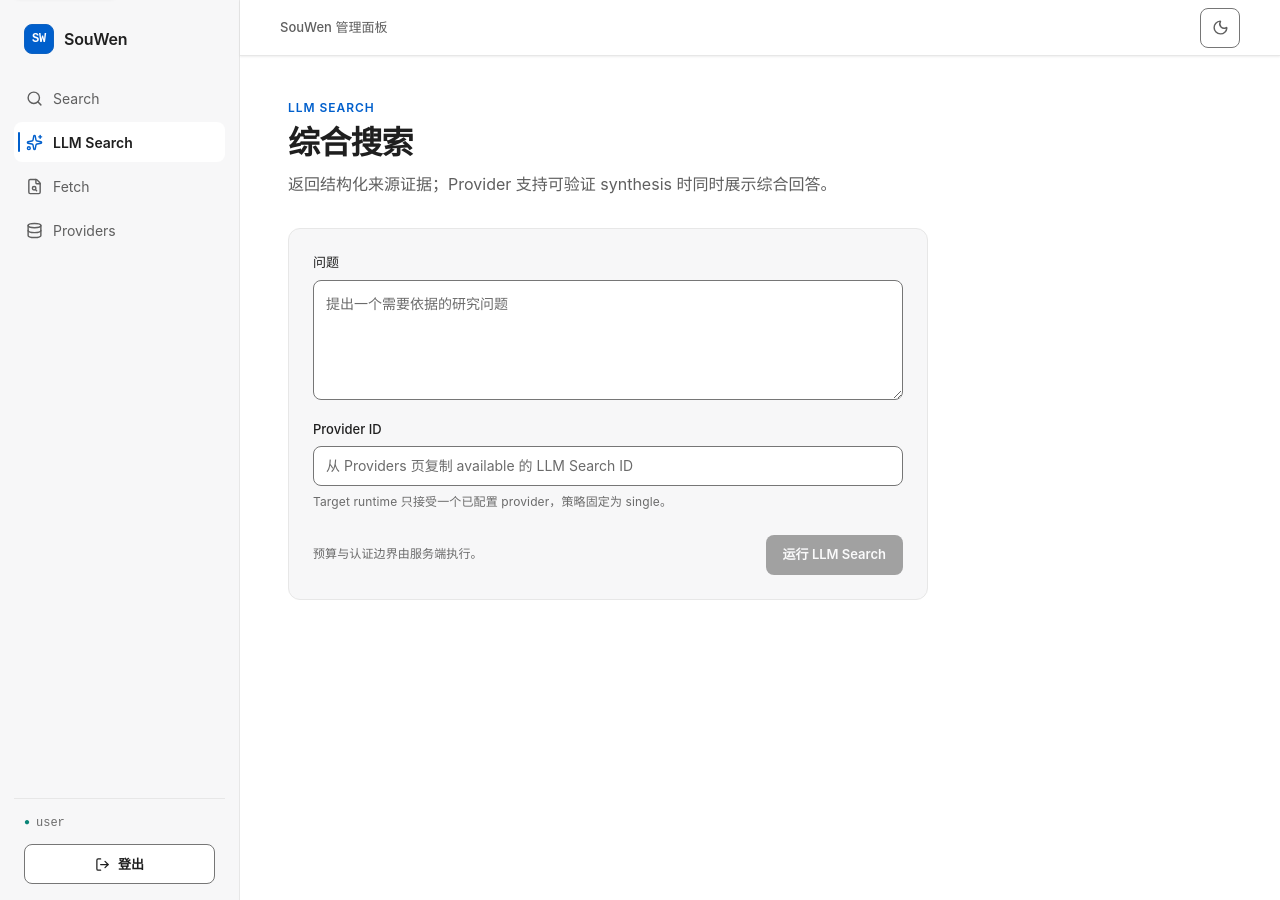
Test case: Calm Precision Panel › renders contract-shaped LLM evidence with title_or_snippet and public_url
The image size is (1280, 900).
Type "evidence query" into the text box labelled "问题".
click(608, 340); type("evidence query")  # box [313,280,903,400]
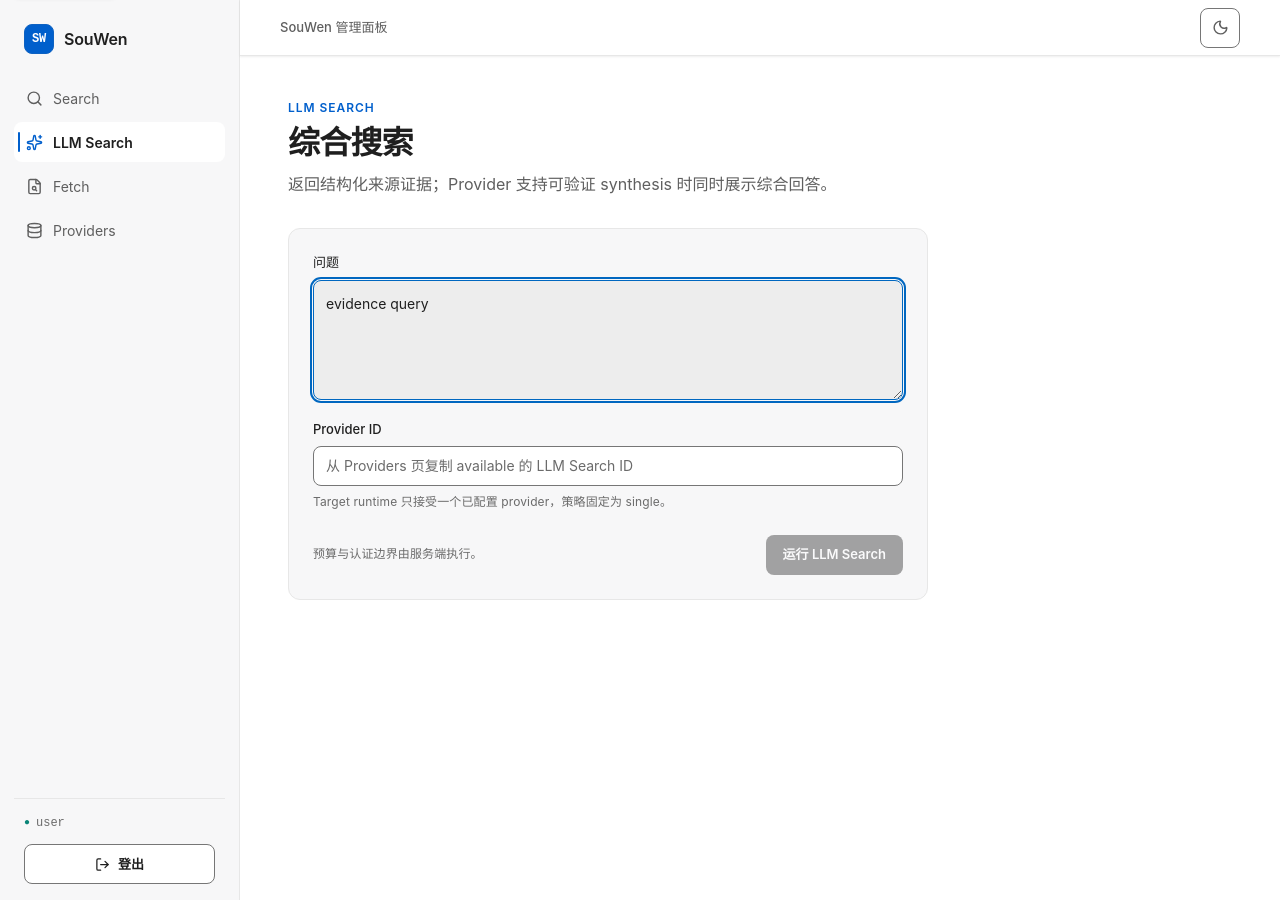
Type "provider-a" into the field labelled "Provider ID".
click(608, 466); type("provider-a")  # box [313,446,903,486]
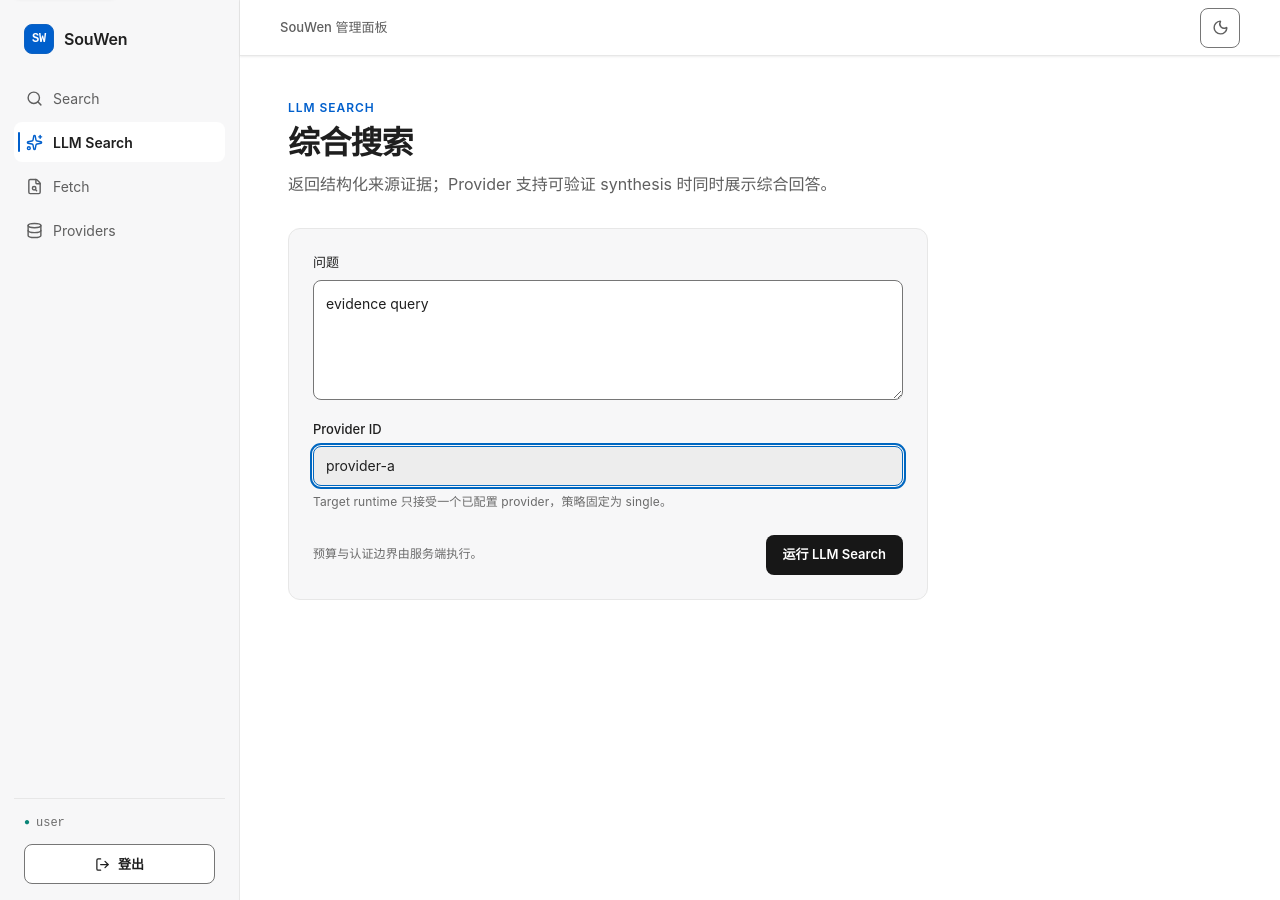
Click the button "运行 LLM Search".
click(834, 555)  # box [766,535,903,575]
(page scrolled)
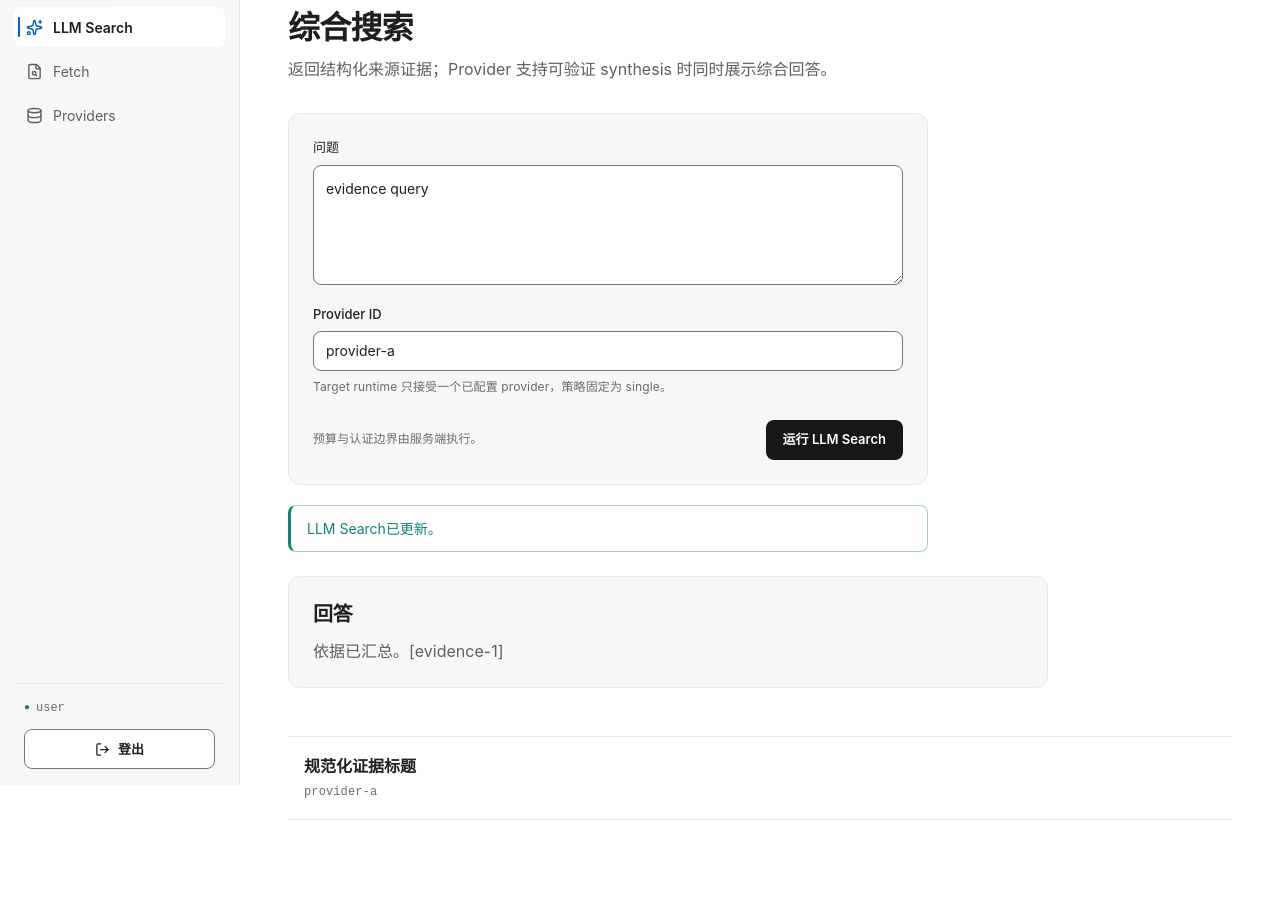
Expected: the text "provider-a" is shown, [304,785,377,799]
